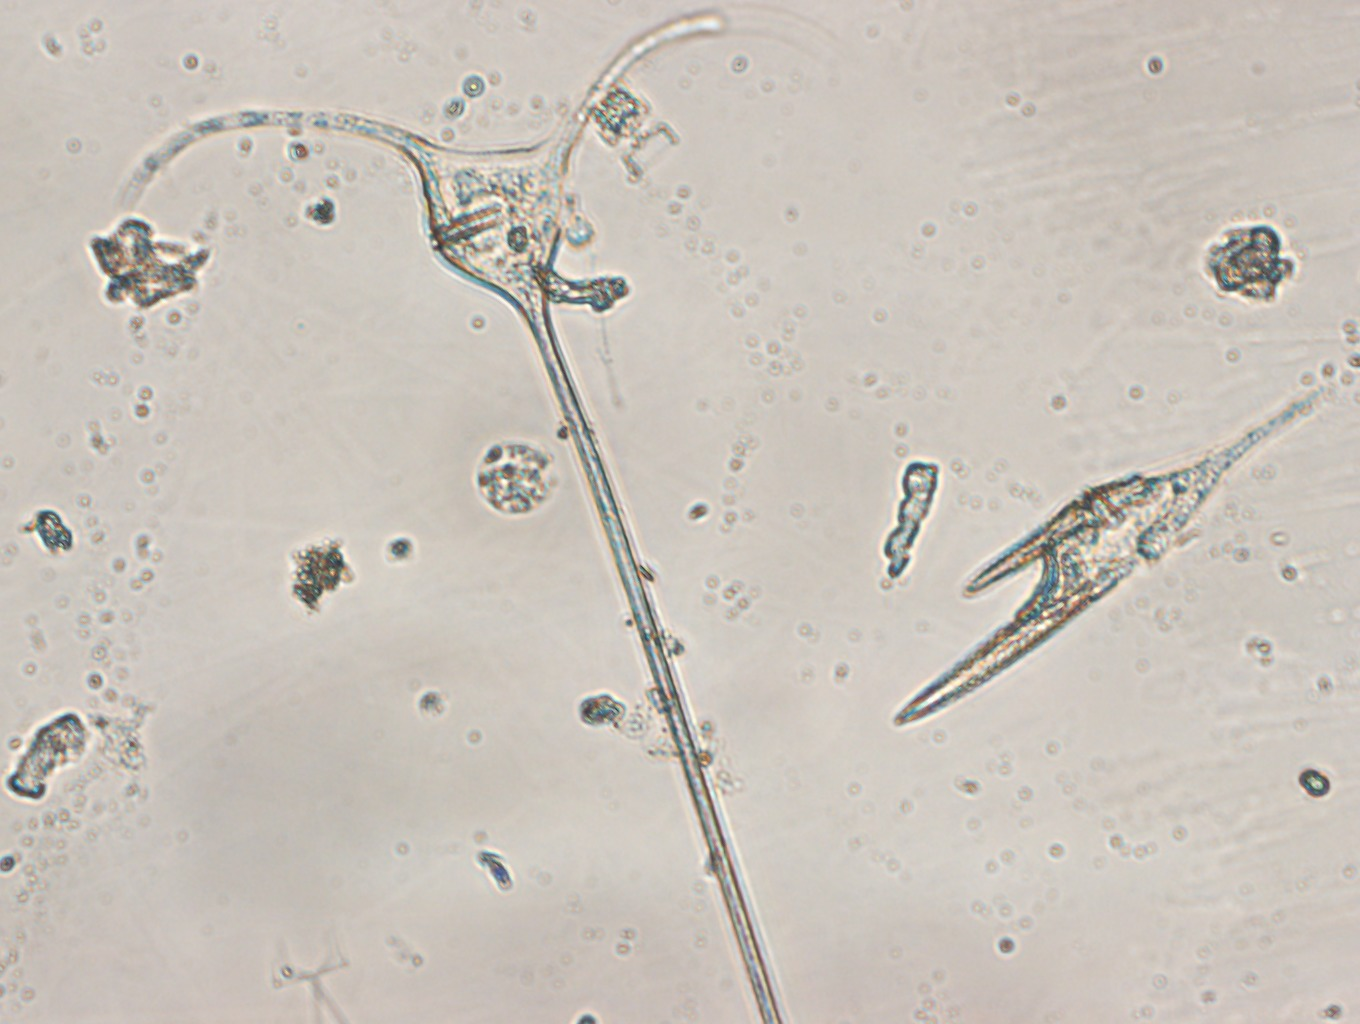ceratium furca: (886, 381, 1336, 731)
ceratium trichoceros: (114, 3, 830, 1024)
